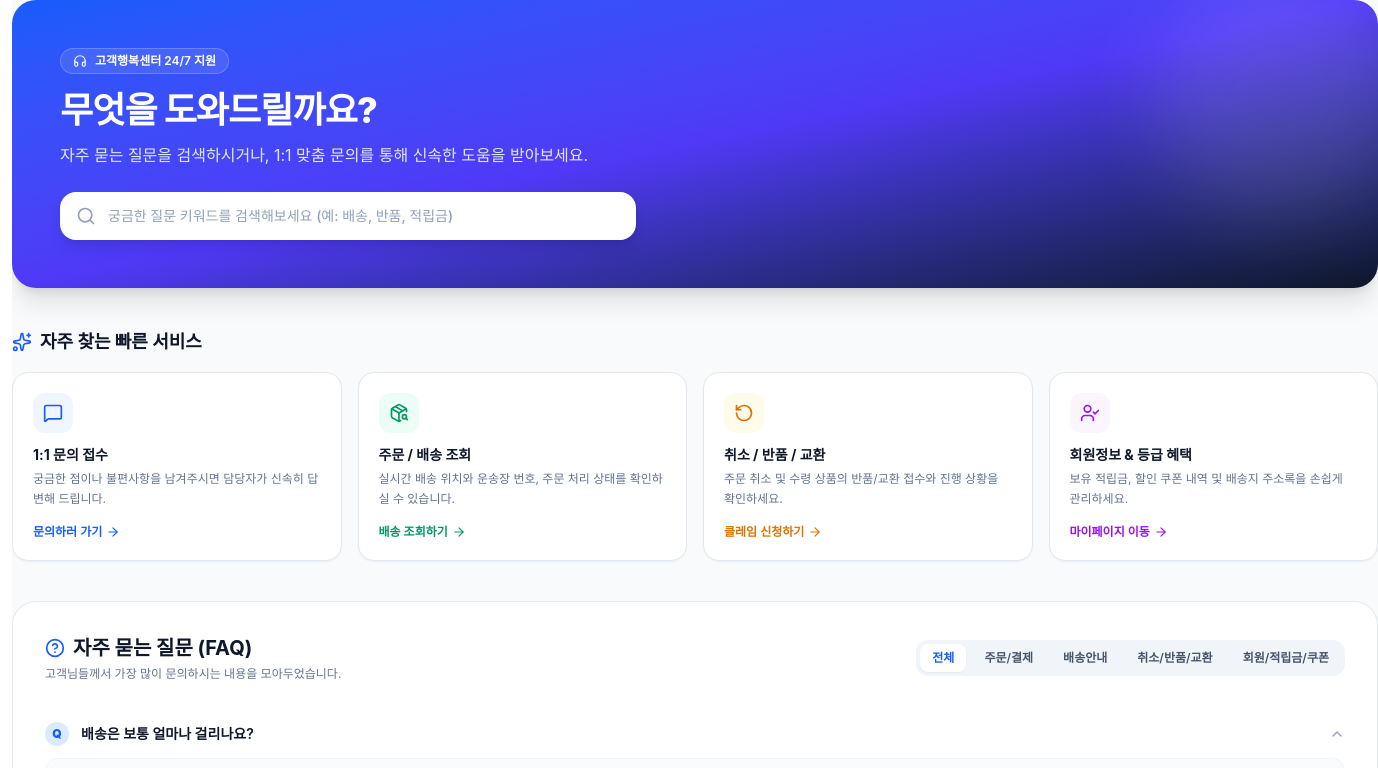
Test case: CustomerSupportViewer › 검색어를 입력하면 관련 질문만 필터링된다
The image size is (1378, 768).
In the field with placeholder "궁금한 질문 키워드를 검색해보세요 (예: 배송, 반품, 적립금)": (348,216) top-left (60, 192), bottom-right (636, 240), type "환불"
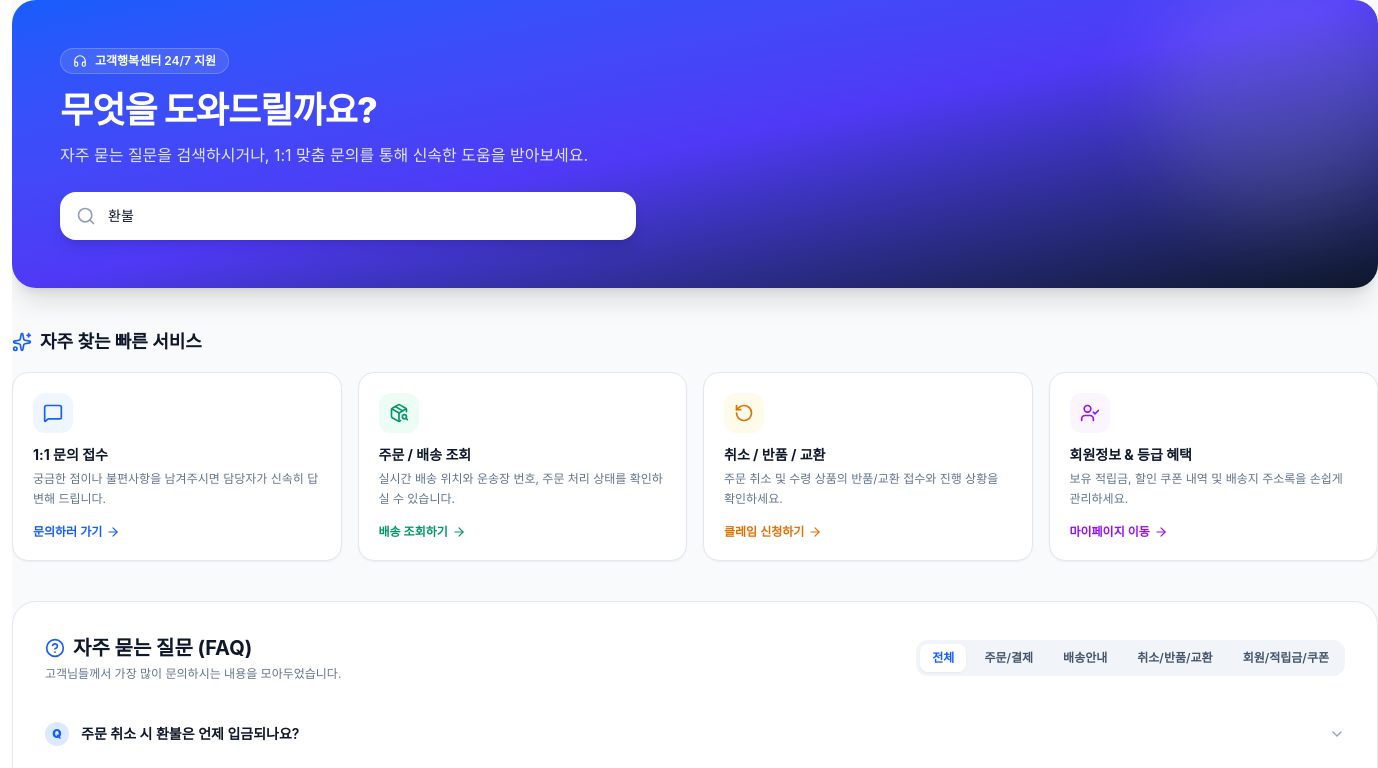
Expected: the text "주문 취소 시 환불은 언제 입금되나요?" is shown, top-left (81, 724), bottom-right (300, 744)
Expected: the button "배송은 보통 얼마나 걸리나요?" is gone
